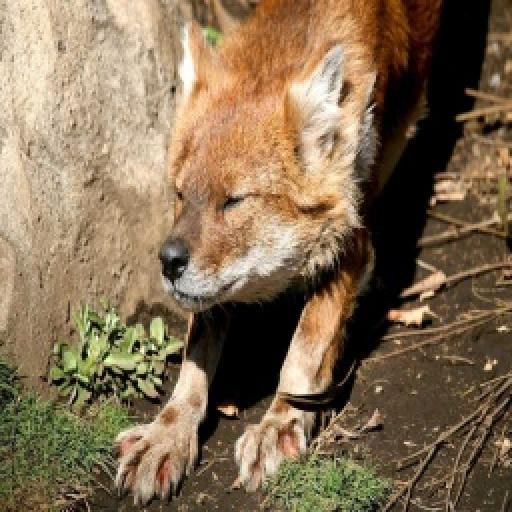zorro: (116, 0, 442, 502)
